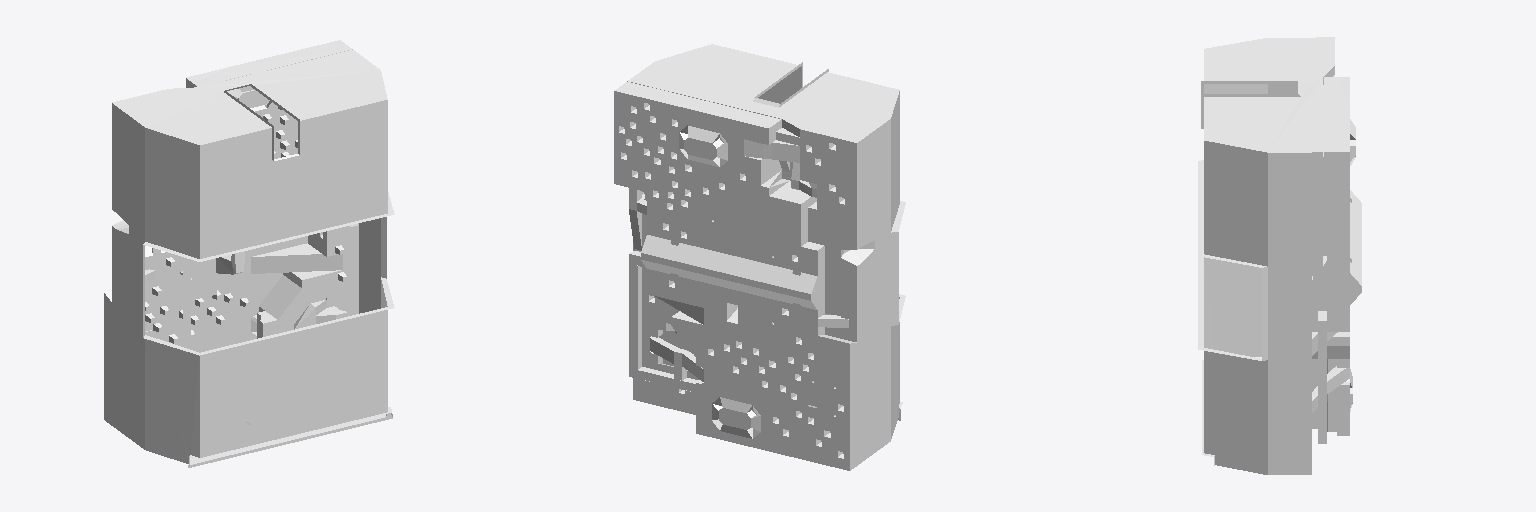
The model's file is hangemhigh.obj.
The picture shows the model from 3 angles: view 1: azimuth 30°, elevation 25°; view 2: azimuth 150°, elevation 25°; view 3: azimuth 270°, elevation 25°; orthographic projection.
Visible parts, largest first — view 1: hangemhigh; view 2: hangemhigh; view 3: hangemhigh.
Boxes of the visible parts, box(x1,y1,x2,y2) form: hangemhigh: box(104, 40, 394, 467); hangemhigh: box(614, 44, 905, 470); hangemhigh: box(1198, 37, 1361, 474).
Bounding box in the file's own units: 2998 × 3865 × 1744.